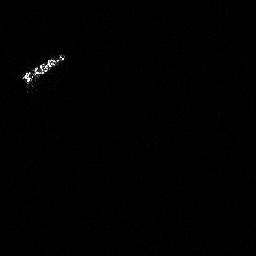ship: (17, 50, 67, 88)
